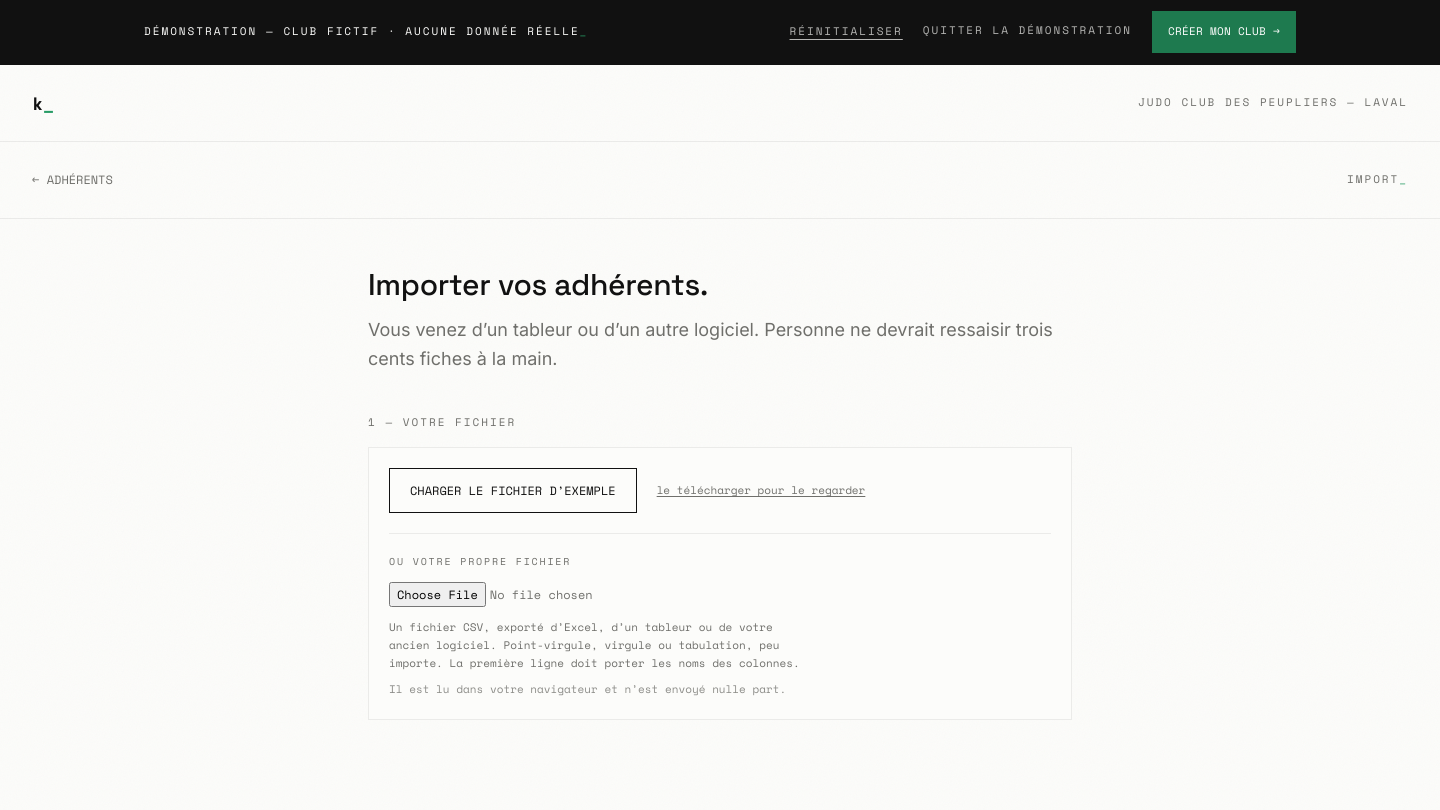
la correspondance des colonnes › bloque le geste quand « Nom » n’est associé à rien
Step 1. Click the button "CHARGER LE FICHIER D’EXEMPLE" → [513, 491], box [389, 468, 637, 513]
(page scrolled)
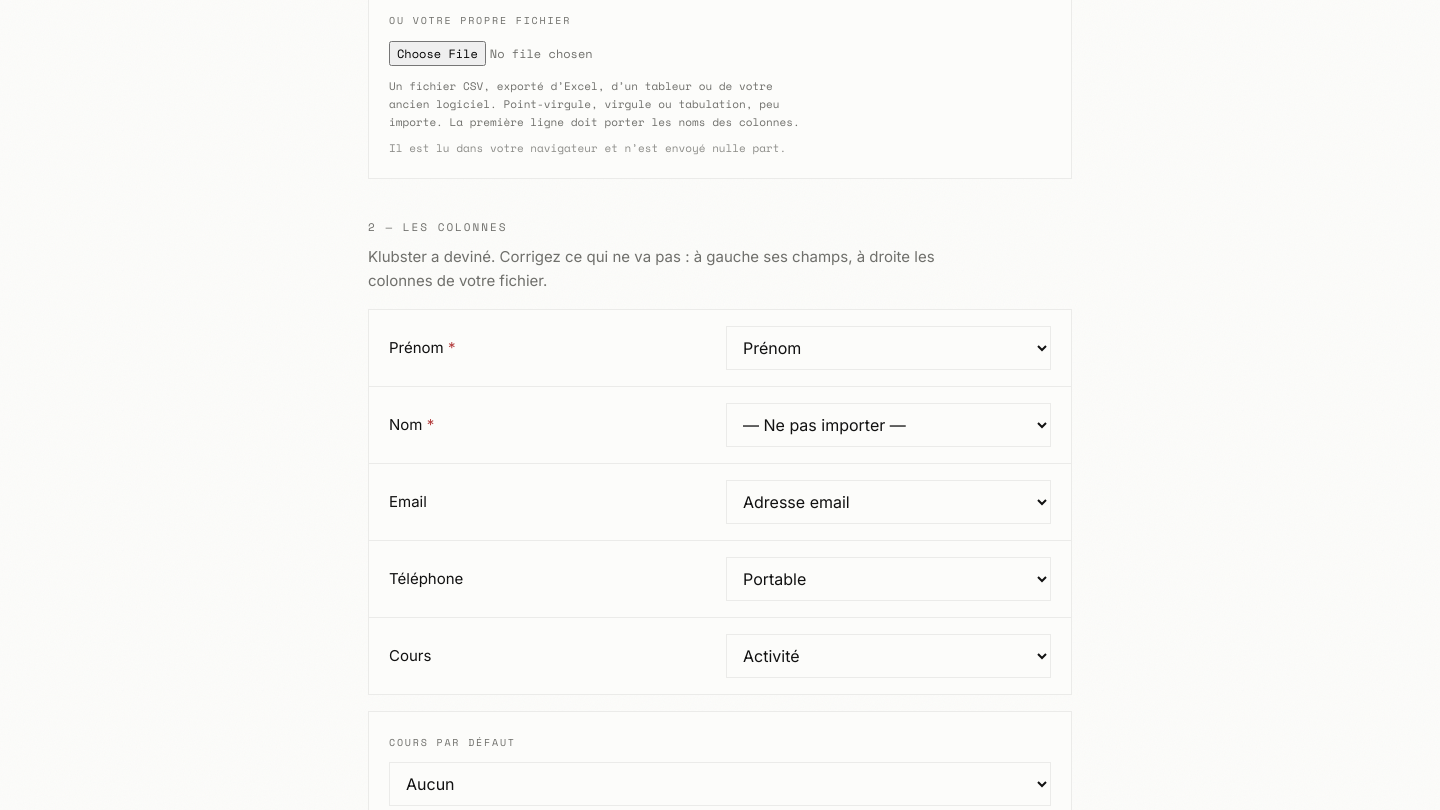
Step 2. Select "— Ne pas importer —" in the dropdown labelled "Nom *" → [888, 425], box [726, 403, 1051, 447]
(page scrolled)
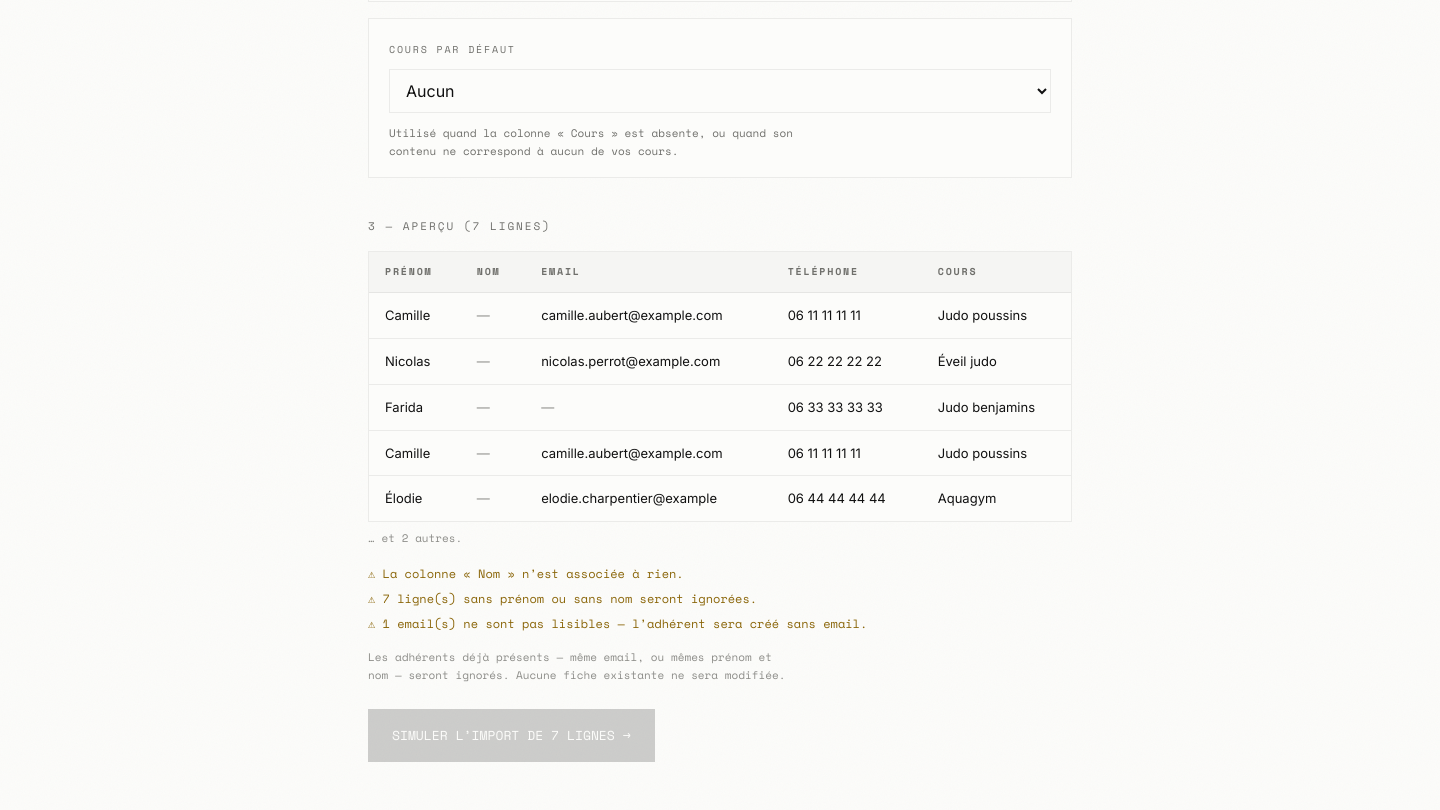
Expected: the list item "⚠ La colonne « Nom » n’est associée à rien." is shown, [368, 565, 684, 582]
Expected: the button "SIMULER L’IMPORT DE 7 LIGNES →" is disabled, [368, 709, 655, 762]
